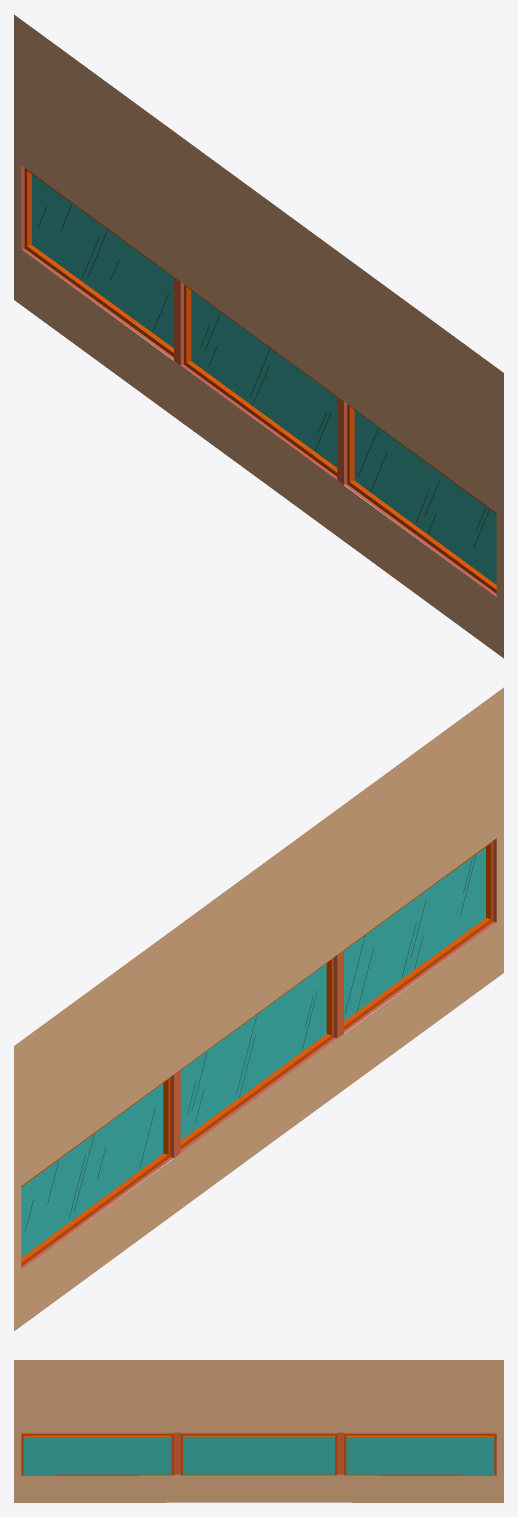
Rendered from BackWalls.fbx.
3 renders of one model, top to bottom at view 1: azimuth 30°, elevation 25°; view 2: azimuth 150°, elevation 25°; view 3: azimuth 270°, elevation 25°, orthographic. The views are drawn at different scales.
Visible parts, largest first — view 1: DOME_019_Krusty_Burger.005; view 2: DOME_019_Krusty_Burger.005; view 3: DOME_019_Krusty_Burger.005.
Boxes of the visible parts, box(x1,y1,x2,y2) form: DOME_019_Krusty_Burger.005: box(14, 14, 503, 658); DOME_019_Krusty_Burger.005: box(14, 687, 503, 1331); DOME_019_Krusty_Burger.005: box(14, 1360, 503, 1502).
Size of the model in its own units: 17.5 by 579 by 1800.
Materials: 1 (1 with a texture image).
